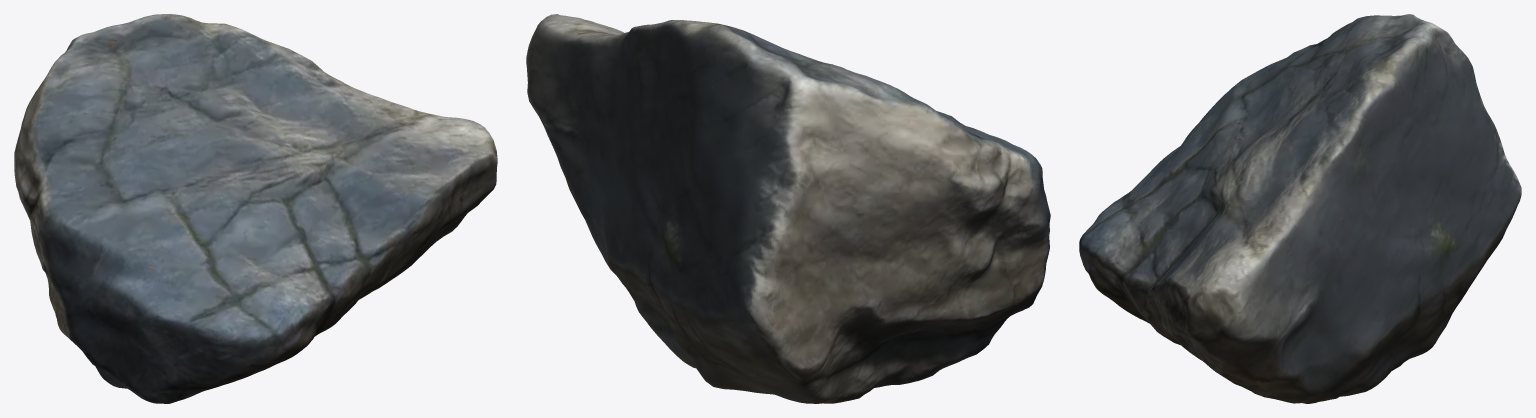
3 views of the same model, side by side, from view 1: azimuth 30°, elevation 25°; view 2: azimuth 150°, elevation 25°; view 3: azimuth 270°, elevation 25° (orthographic). The views are drawn at different scales.
Bounding box in the file's own units: 1.99 × 1.34 × 1.65.
Materials: 1 (1 with a texture image).
